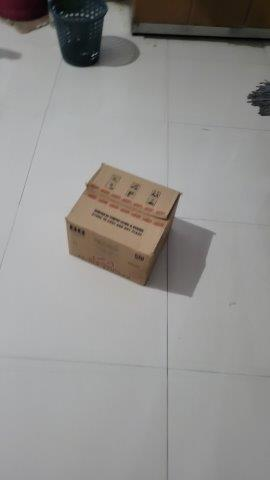kardus: (66, 164, 182, 285)
